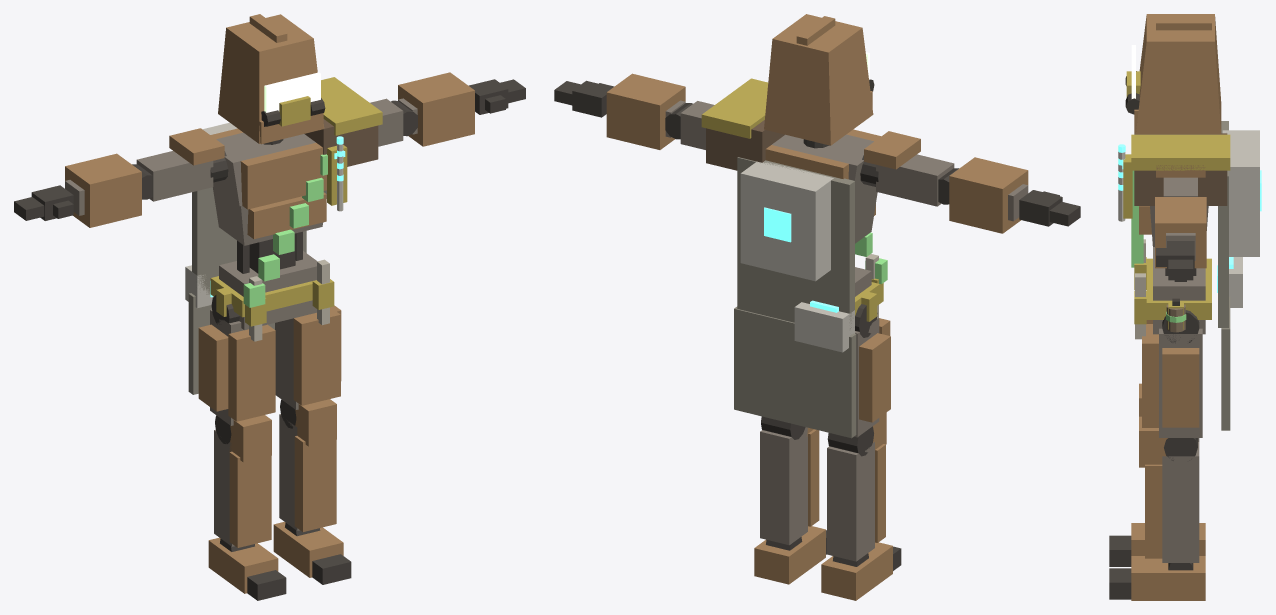
The model's file is char_P_medic.glb.
3 views of the same model, side by side, from view 1: azimuth 30°, elevation 25°; view 2: azimuth 150°, elevation 25°; view 3: azimuth 270°, elevation 25° (orthographic). The views are drawn at different scales.
Parts seen in each view (by area): view 1: UpperChest_mesh, Head_mesh, RightUpperLeg_mesh, LeftLowerLeg_mesh, RightLowerLeg_mesh, Hips_mesh, LeftUpperLeg_mesh, RightLowerArm_mesh, LeftLowerArm_mesh, Chest_mesh, LeftShoulder_mesh, RightUpperArm_mesh (+9 smaller); view 2: UpperChest_mesh, Hips_mesh, Head_mesh, RightLowerLeg_mesh, LeftLowerLeg_mesh, RightLowerArm_mesh, LeftLowerArm_mesh, LeftShoulder_mesh, RightUpperArm_mesh, RightUpperLeg_mesh, RightFoot_mesh, LeftFoot_mesh (+5 smaller); view 3: Head_mesh, LeftLowerLeg_mesh, LeftUpperLeg_mesh, UpperChest_mesh, LeftShoulder_mesh, Hips_mesh, LeftFoot_mesh, LeftLowerArm_mesh, LeftHand_mesh, LeftUpperArm_mesh, Chest_mesh, LeftToes_mesh (+5 smaller).
Boxes of the visible parts, box(x1,y1,x2,y2) form: UpperChest_mesh: box(192, 122, 347, 294); Head_mesh: box(218, 14, 325, 144); RightUpperLeg_mesh: box(198, 295, 275, 425); LeftLowerLeg_mesh: box(279, 399, 336, 531); RightLowerLeg_mesh: box(214, 415, 271, 547); Hips_mesh: box(188, 251, 334, 394); LeftUpperLeg_mesh: box(275, 305, 341, 409); RightLowerArm_mesh: box(65, 153, 152, 227); LeftLowerArm_mesh: box(391, 72, 474, 146); Chest_mesh: box(213, 187, 326, 307); LeftShoulder_mesh: box(304, 77, 382, 166); RightUpperArm_mesh: box(136, 128, 224, 201); UpperChest_mesh: box(737, 129, 880, 329); Hips_mesh: box(734, 267, 883, 438); Head_mesh: box(764, 14, 874, 145); RightLowerLeg_mesh: box(827, 412, 886, 561); LeftLowerLeg_mesh: box(760, 416, 819, 545); RightLowerArm_mesh: box(938, 157, 1028, 233); LeftLowerArm_mesh: box(606, 73, 692, 149); LeftShoulder_mesh: box(701, 78, 784, 170); RightUpperArm_mesh: box(864, 131, 954, 206); RightUpperLeg_mesh: box(854, 304, 890, 437); RightFoot_mesh: box(821, 542, 892, 600); LeftFoot_mesh: box(754, 526, 825, 584); Head_mesh: box(1125, 14, 1221, 133); LeftLowerLeg_mesh: box(1139, 416, 1199, 562); LeftUpperLeg_mesh: box(1142, 310, 1202, 437); UpperChest_mesh: box(1122, 121, 1261, 327); LeftShoulder_mesh: box(1131, 133, 1230, 205); Hips_mesh: box(1134, 247, 1230, 430); LeftFoot_mesh: box(1131, 556, 1205, 600); LeftLowerArm_mesh: box(1155, 197, 1206, 268); LeftHand_mesh: box(1156, 241, 1194, 280); LeftUpperArm_mesh: box(1156, 165, 1205, 196); Chest_mesh: box(1131, 206, 1208, 267); LeftToes_mesh: box(1109, 568, 1131, 599).
Size of the model in its own units: 1.92 by 1.97 by 0.49.
